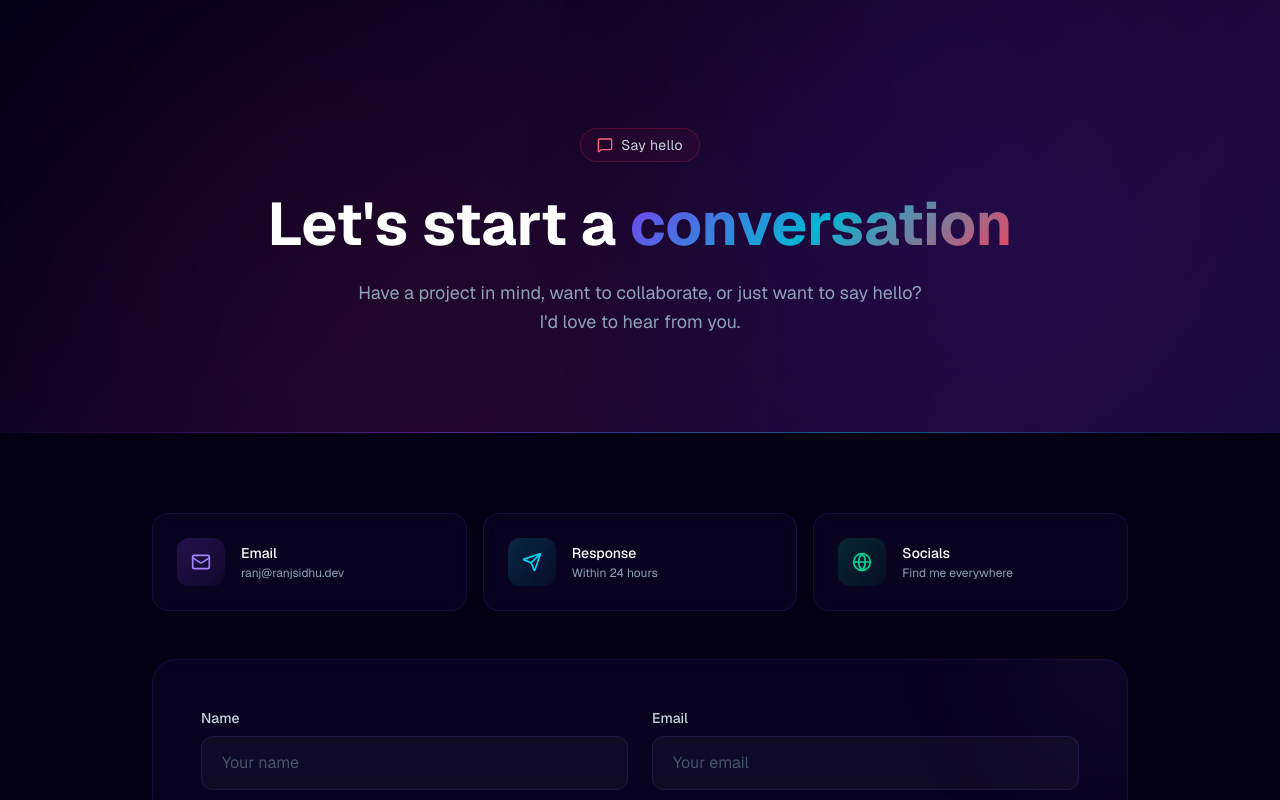
Contact form › submits the form with a reCAPTCHA token and shows the success state
This screenshot has width=1280, height=800.
Type "Alice" into the field labelled "Name" at (414, 762), box [201,736,628,790]
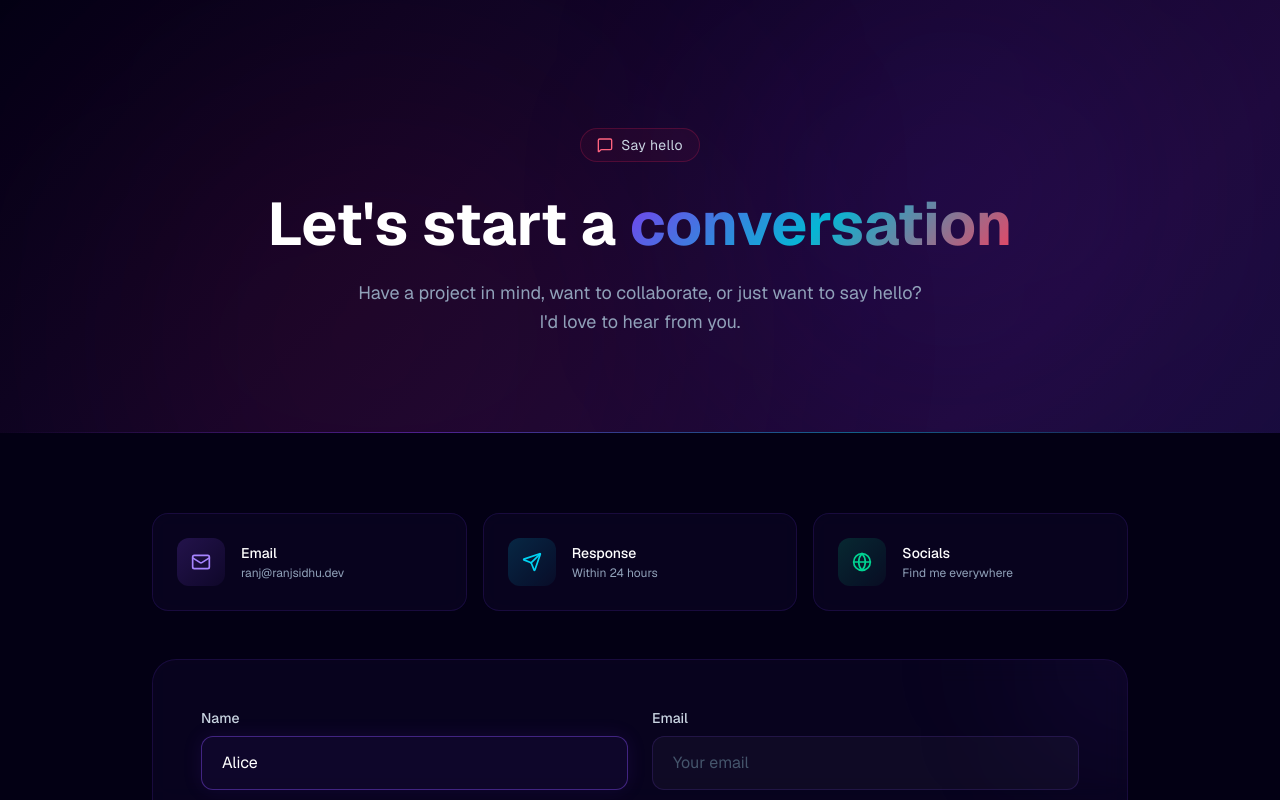
Type "alice@example.com" into the field labelled "Email" at (866, 762), box [652,736,1079,790]
(page scrolled)
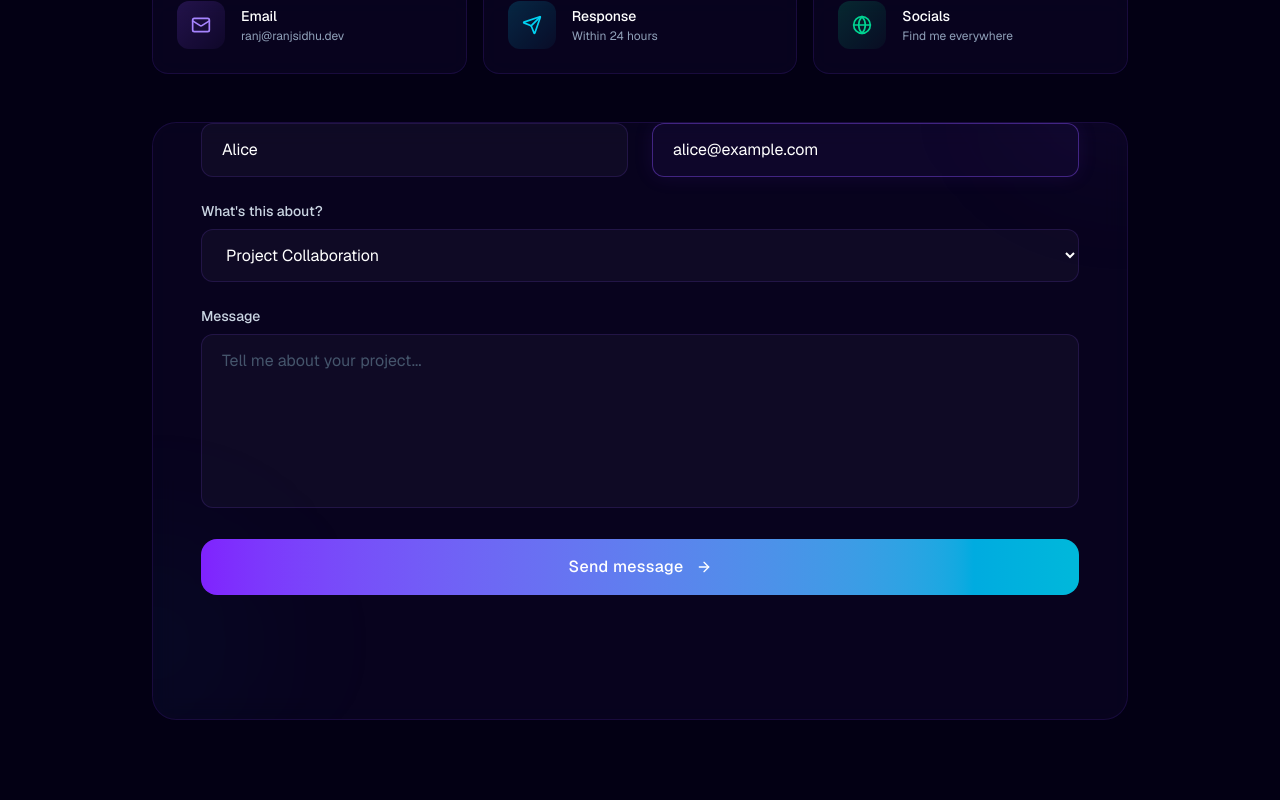
Type "Hello there" into the text box labelled "Message" at (640, 420), box [201,334,1079,508]
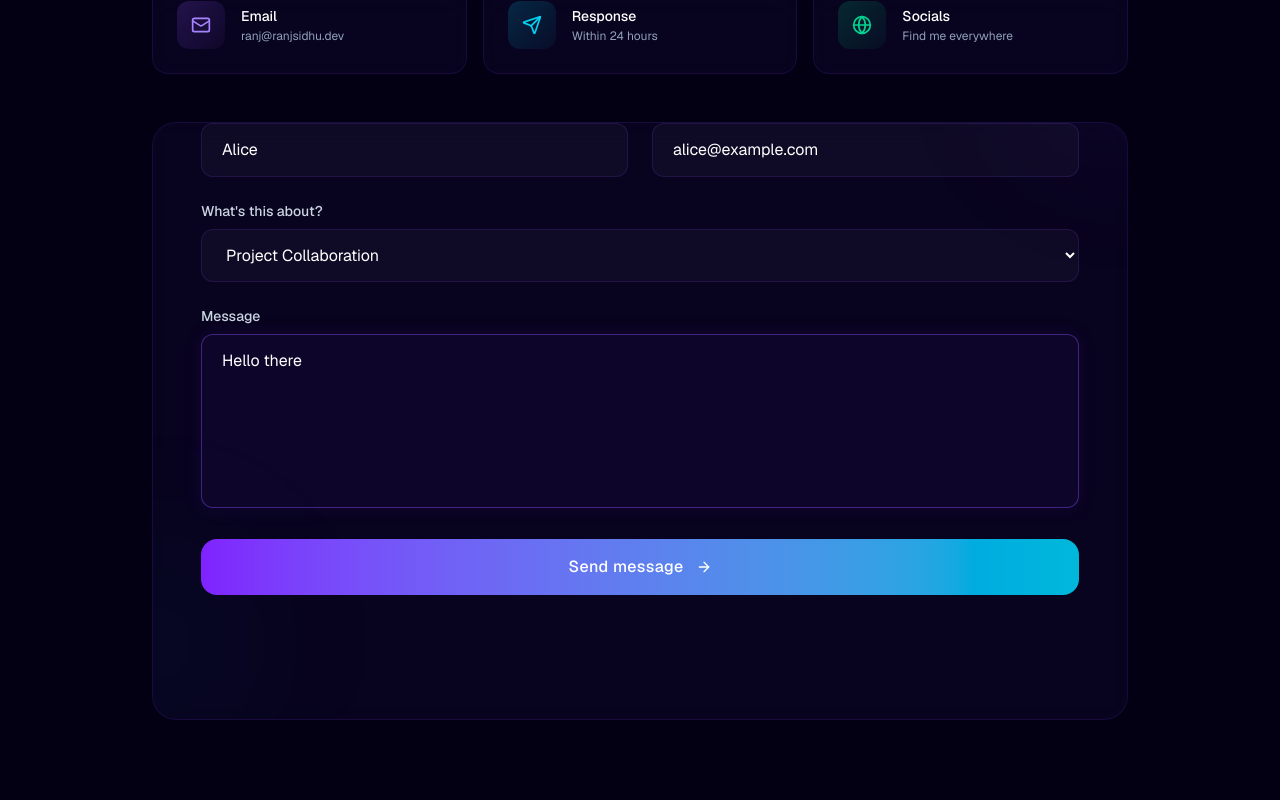
Click the button "Send message" at (640, 566), box [201,538,1079,594]
(page scrolled)
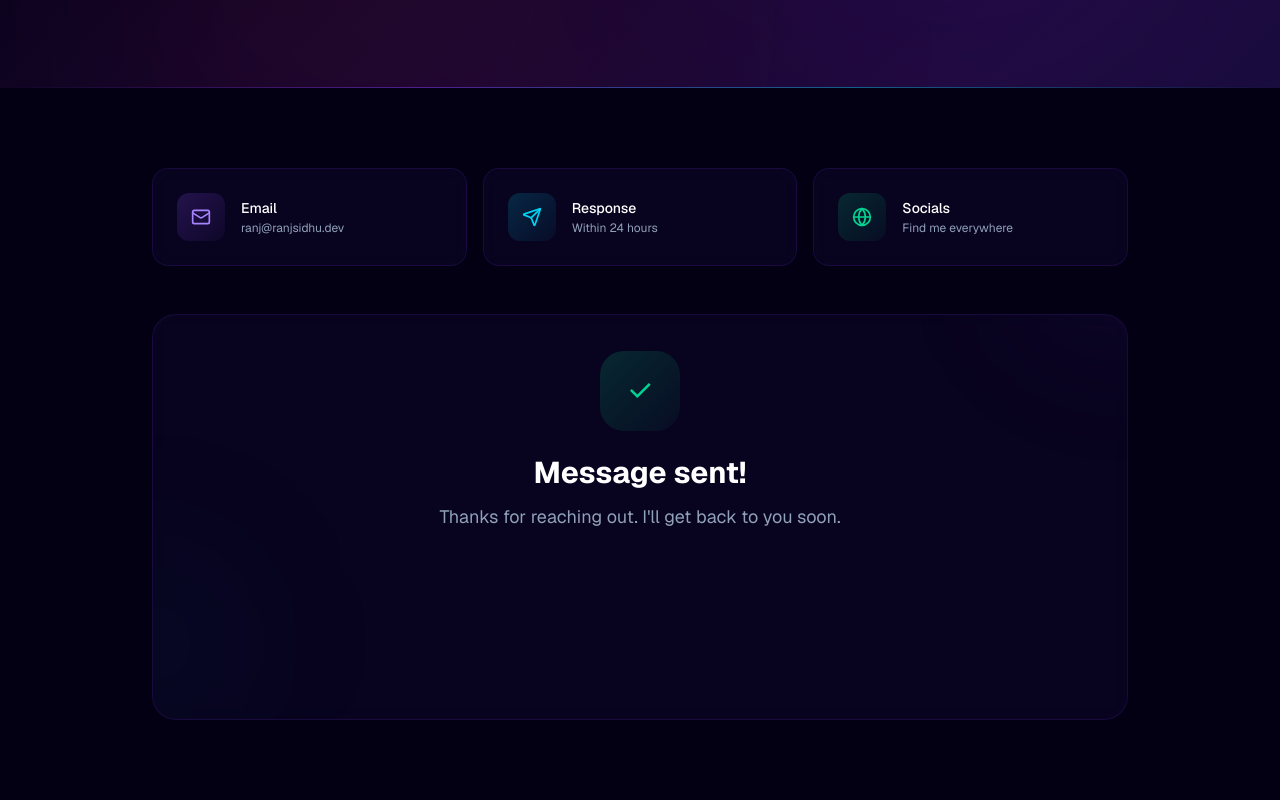
Check: the heading "Message sent!" is shown, box [534,452,746,492]
